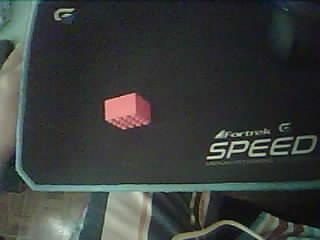lego: (104, 92, 150, 129)
